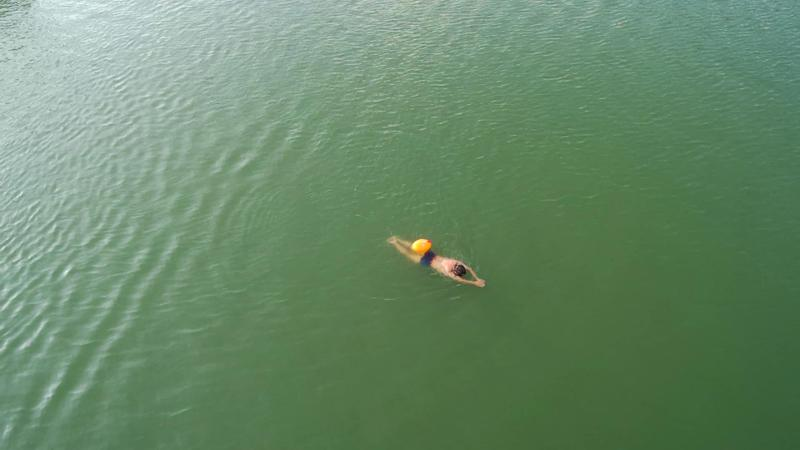swimmers: (387, 235, 486, 289)
